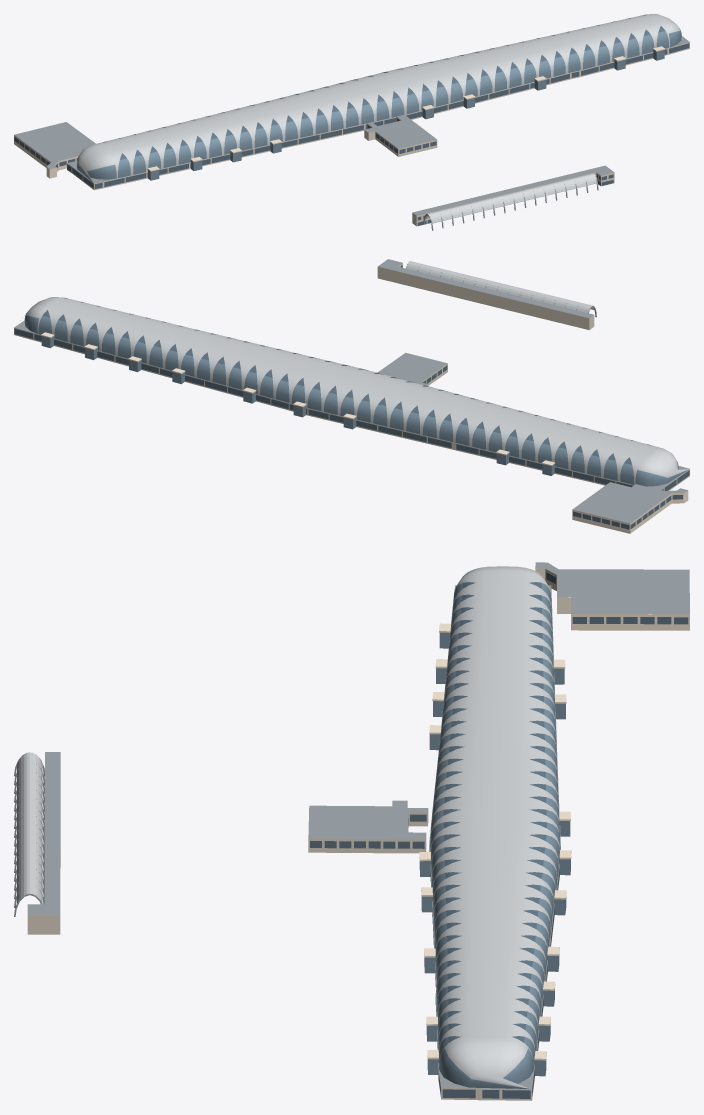
Rendered from dubai-dxb-terminal-3.glb.
3 views of the same model, one above another, from view 1: azimuth 30°, elevation 25°; view 2: azimuth 150°, elevation 25°; view 3: azimuth 270°, elevation 25° (orthographic). The views are drawn at different scales.
Parts seen in each view (by area): view 1: Dubai International Airport Terminal 3 and Concourse B; view 2: Dubai International Airport Terminal 3 and Concourse B; view 3: Dubai International Airport Terminal 3 and Concourse B.
Part boxes in pixels (x1=…): Dubai International Airport Terminal 3 and Concourse B: x1=14, y1=14, x2=689, y2=230; Dubai International Airport Terminal 3 and Concourse B: x1=14, y1=259, x2=689, y2=533; Dubai International Airport Terminal 3 and Concourse B: x1=14, y1=562, x2=689, y2=1100.
Size of the model in its own units: 953 by 38 by 522.
